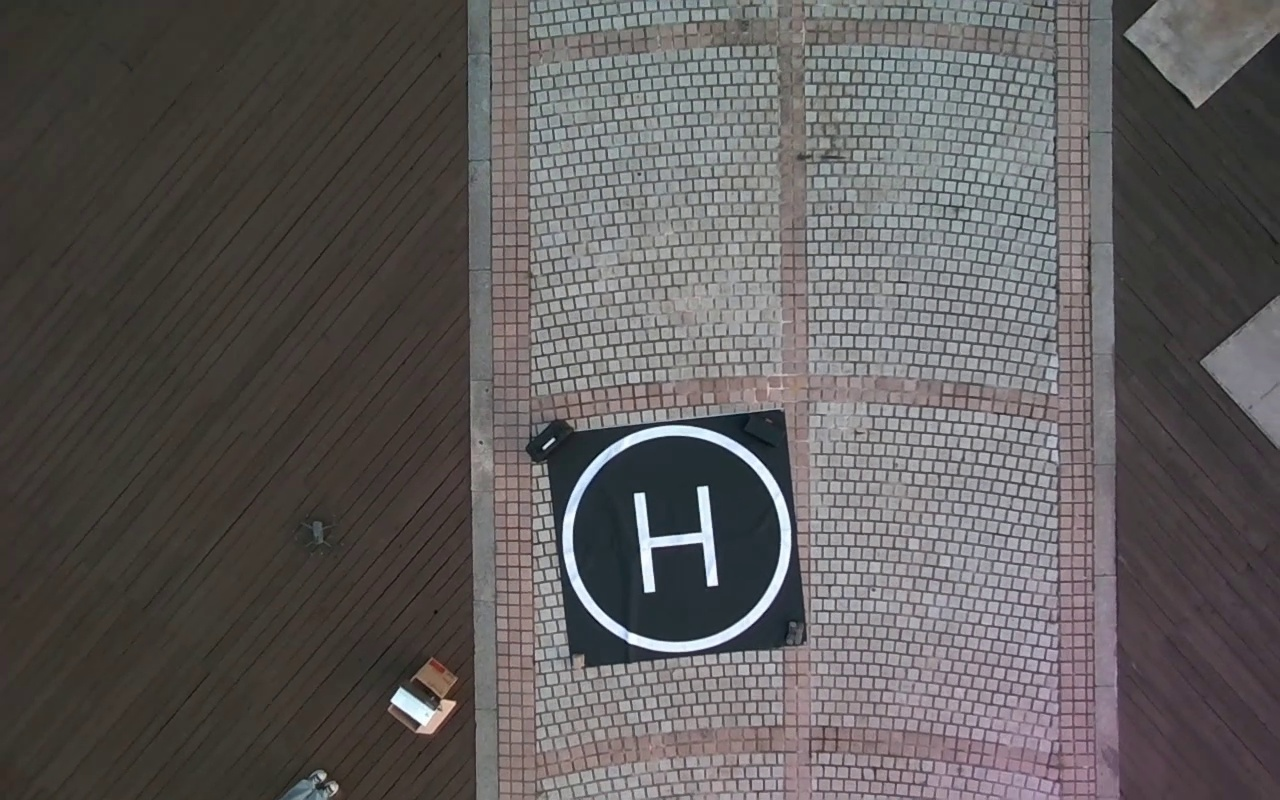H: (634, 484, 718, 593)
heliport: (562, 425, 794, 651)
